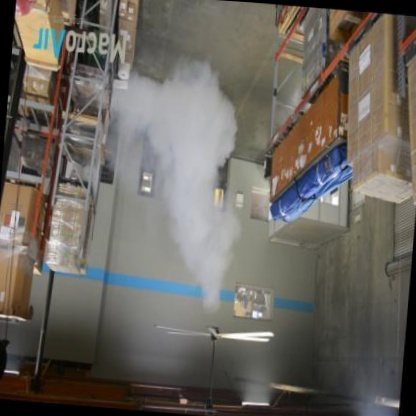smoke: (103, 57, 263, 318)
